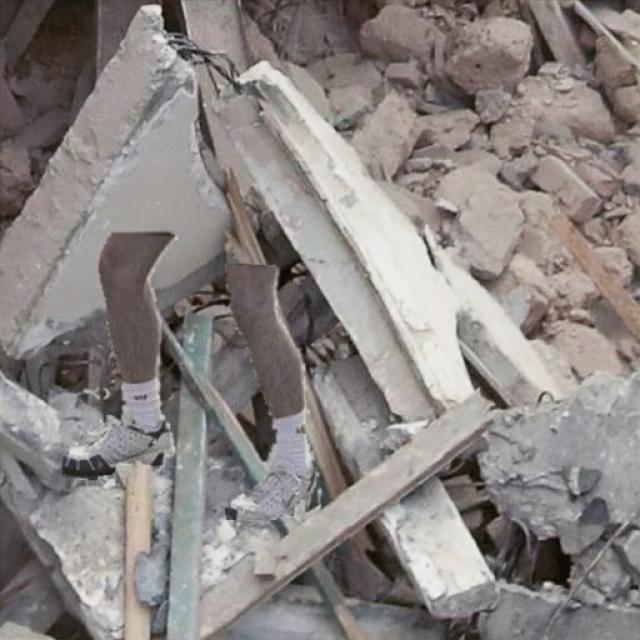Person in Rubble: (62, 232, 320, 518)
